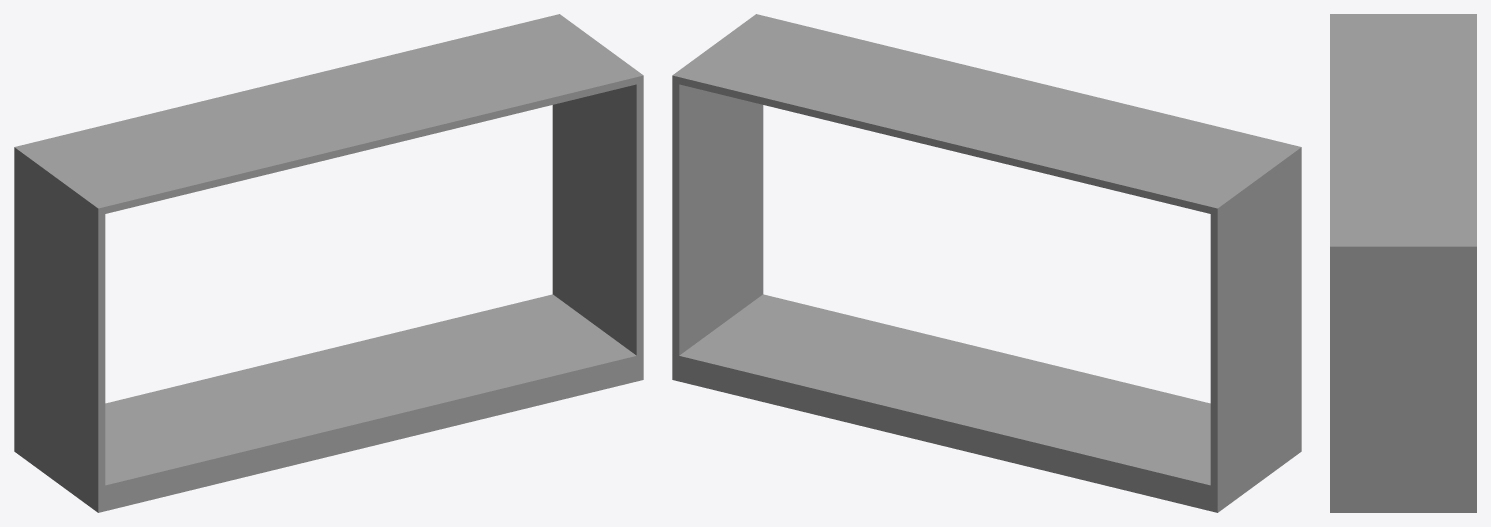
File: meuble_68faa6d27332b.glb
3 views of the same model, side by side, from view 1: azimuth 30°, elevation 25°; view 2: azimuth 150°, elevation 25°; view 3: azimuth 270°, elevation 25° (orthographic). The views are drawn at different scales.
Visible parts, largest first — view 1: world; view 2: world; view 3: world.
Part boxes in pixels (left/top/right/bottom): world: left=14, top=14, right=643, bottom=512; world: left=672, top=14, right=1301, bottom=512; world: left=1330, top=14, right=1476, bottom=512.
Size of the model in its own units: 1.5 by 0.8 by 0.4.
1 material, 1 textured.
